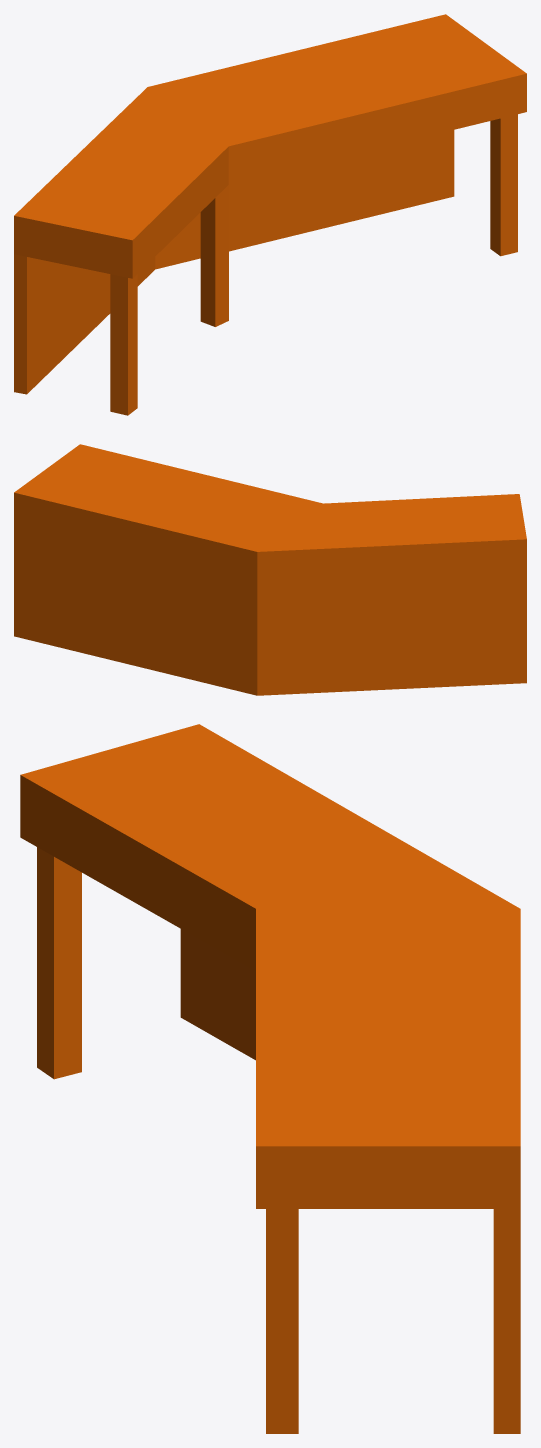
Rendered from office-desk.fbx.
The picture shows the model from 3 angles, top to bottom: view 1: azimuth 30°, elevation 25°; view 2: azimuth 150°, elevation 25°; view 3: azimuth 270°, elevation 25°; orthographic projection. The views are drawn at different scales.
Parts seen in each view (by area): view 1: Cube; view 2: Cube; view 3: Cube.
Boxes of the visible parts, x1,y1,x2,y2 form: Cube: (14,14,526,415); Cube: (14,444,526,695); Cube: (20,724,520,1433).
Bounding box in the file's own units: 755 × 244 × 378.
